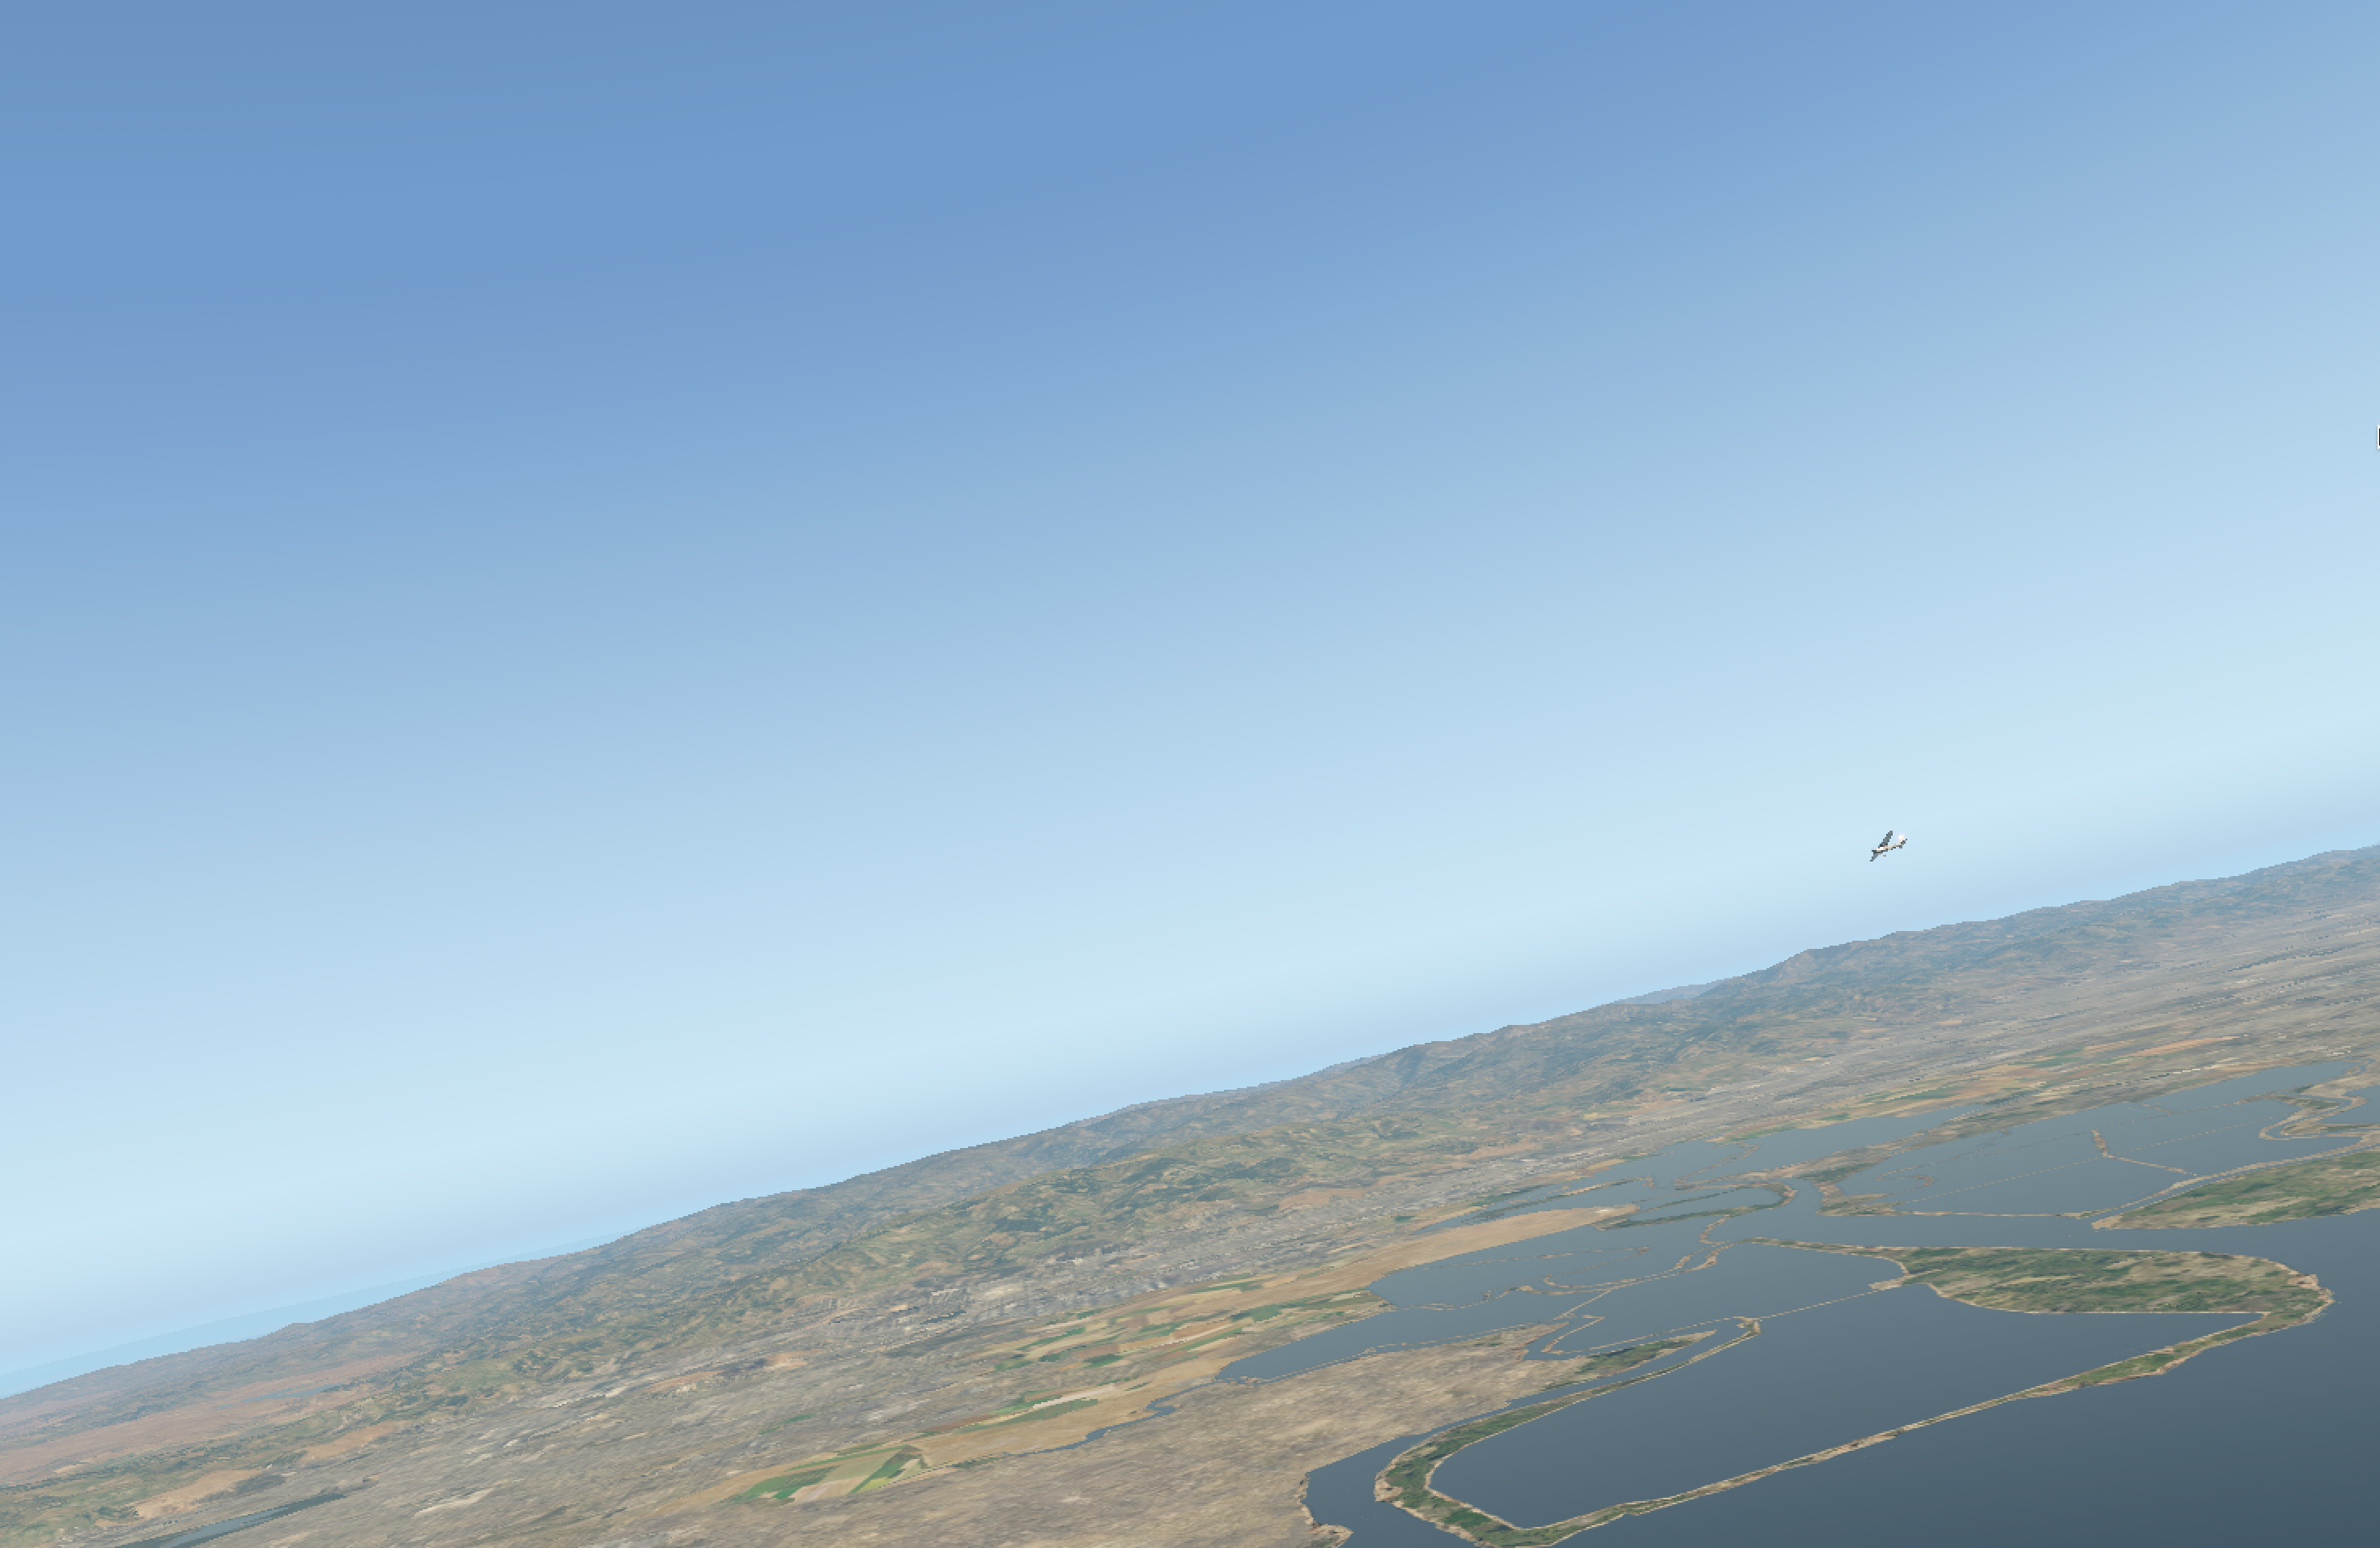aircraft: (1863, 842, 1901, 856)
